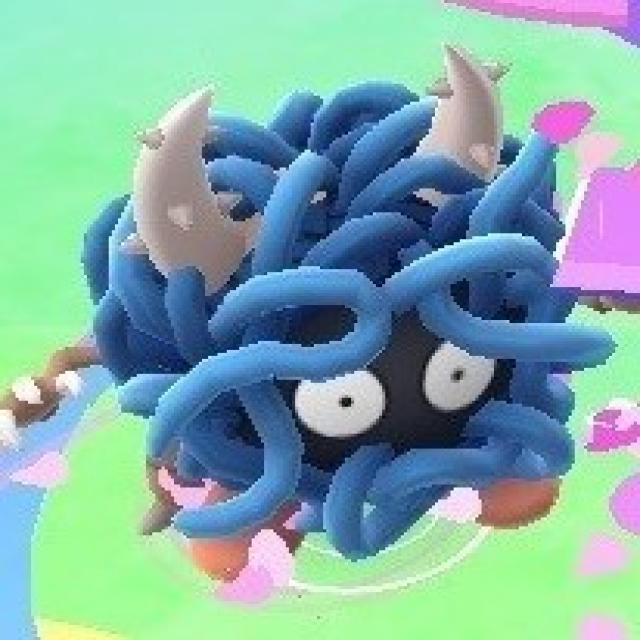Tangela: (148, 95, 572, 578)
